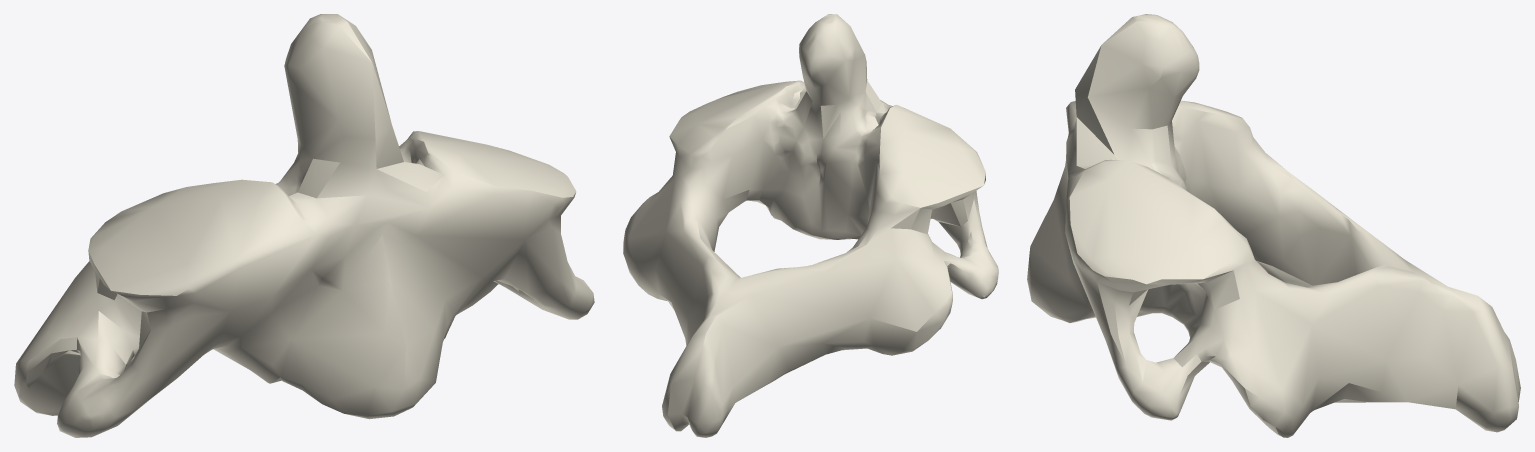
Rendered from fma12520_fj6296.glb.
3 renders of one model, left to right at view 1: azimuth 30°, elevation 25°; view 2: azimuth 150°, elevation 25°; view 3: azimuth 270°, elevation 25°, orthographic. The views are drawn at different scales.
Visible parts, largest first — view 1: FMA12520_FJ6296; view 2: FMA12520_FJ6296; view 3: FMA12520_FJ6296.
Boxes of the visible parts, x1,y1,x2,y2 form: FMA12520_FJ6296: (14, 14, 594, 437); FMA12520_FJ6296: (623, 14, 998, 437); FMA12520_FJ6296: (1027, 14, 1520, 437).
Bounding box in the file's own units: 0.0505 × 0.0452 × 0.0499.
